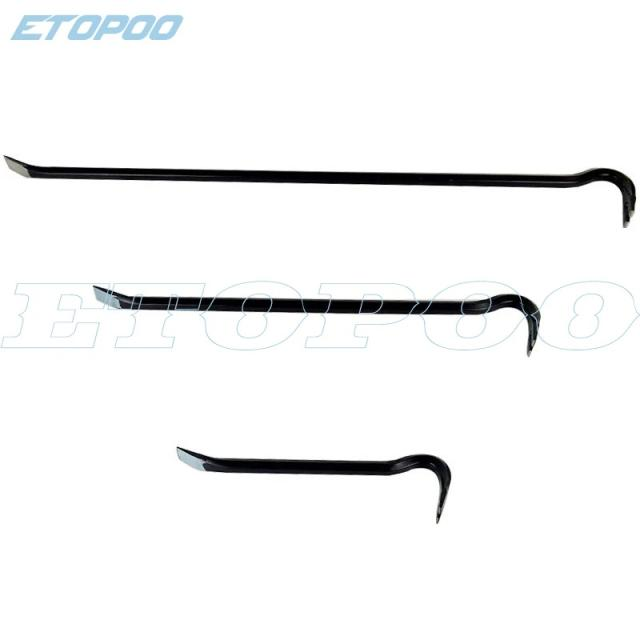Linggis: (4, 151, 637, 231)
